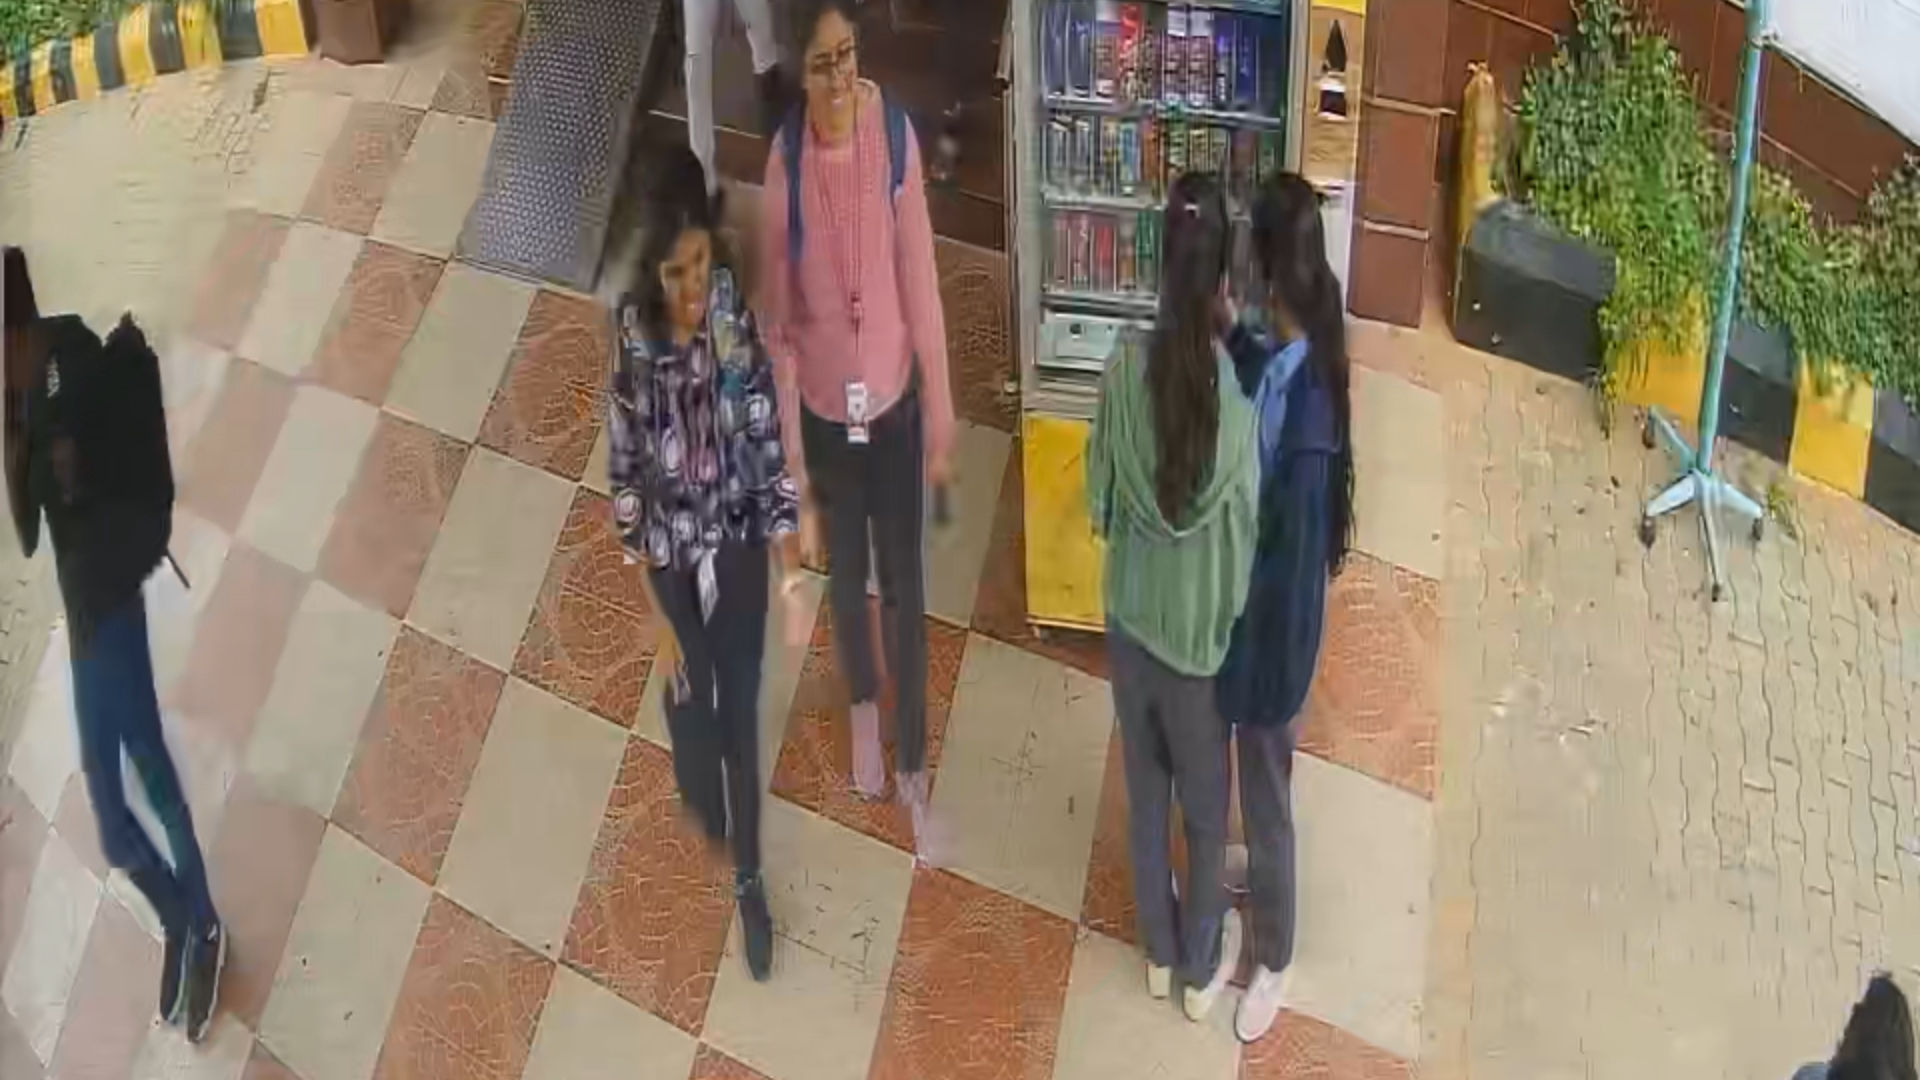not intruder: (764, 1, 957, 928), (615, 135, 814, 952)
